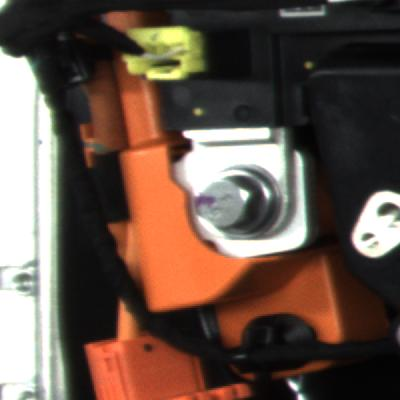nut_b: (184, 149, 298, 243)
